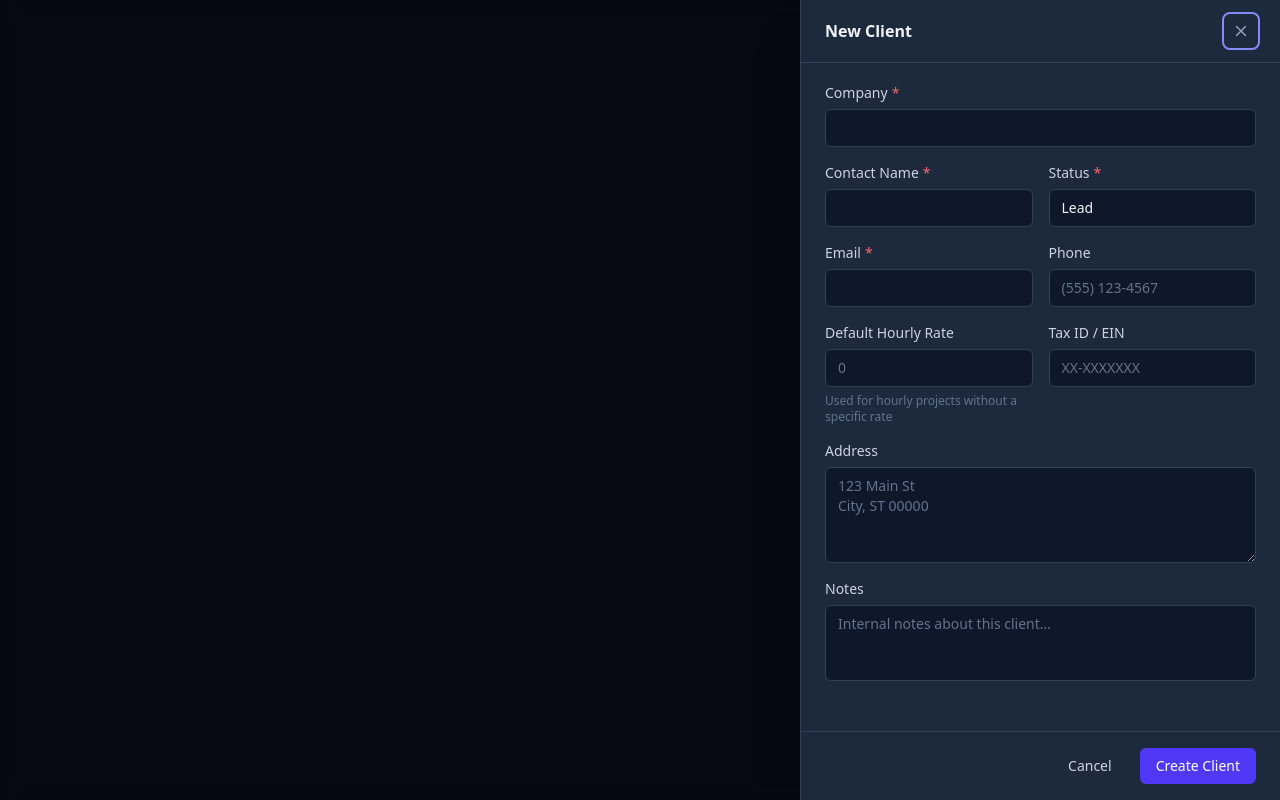
Test: ClientForm (integration) › blocks submit and surfaces validation errors when required fields are empty
What coordinates should you click on to do the following:
click the button "Create Client"
I would click on:
 (1198, 766)
Its box is [1140,748,1256,784].
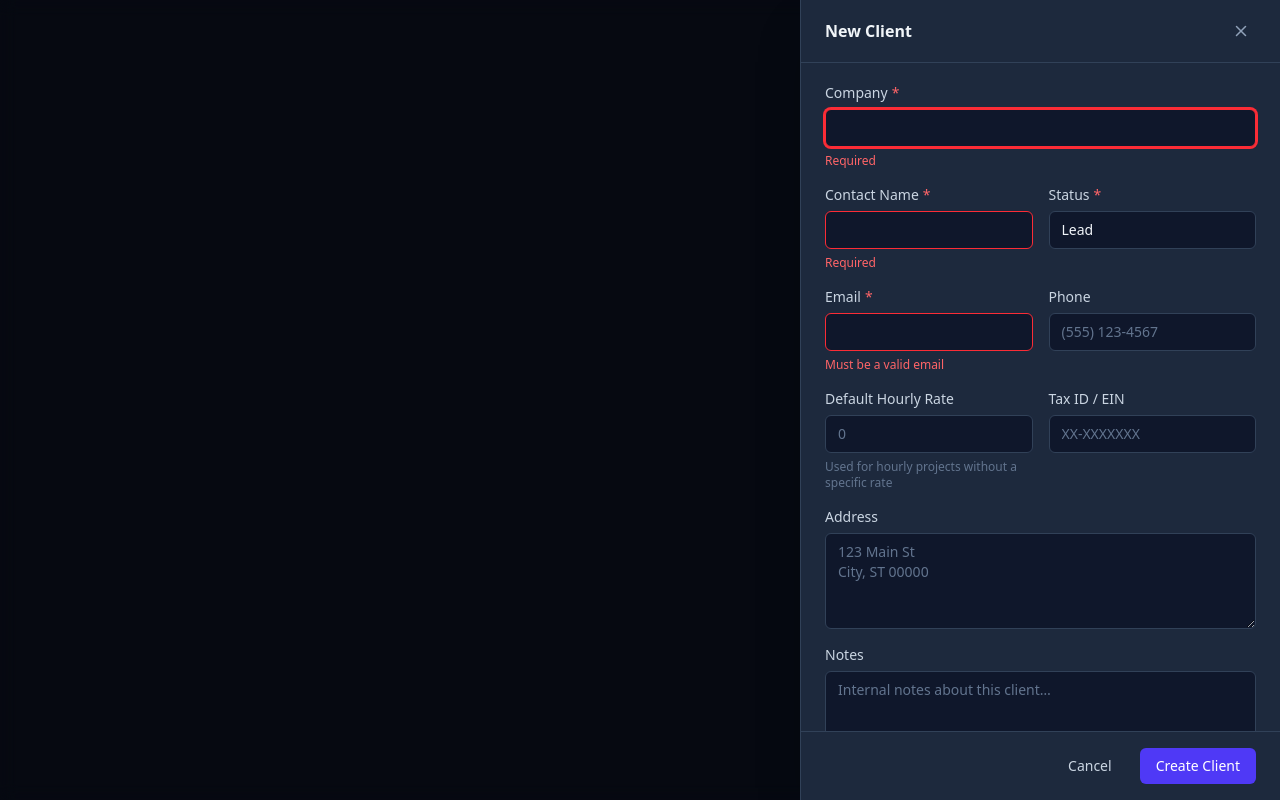
Result: the text "Required" below "Company" is shown at [825,152,876,169]
